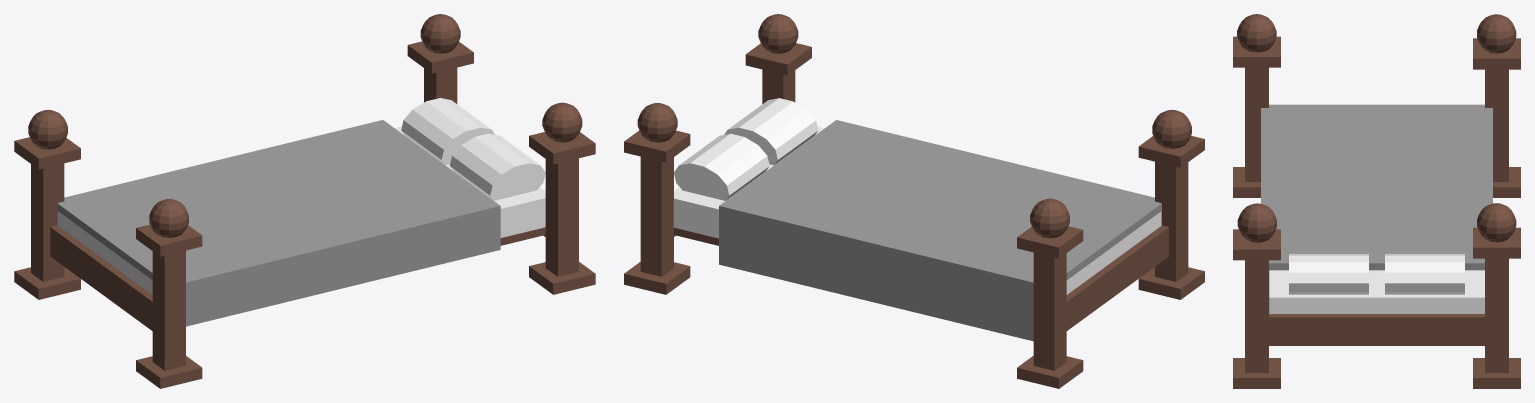
Rendered from four-post-bed-by-andrew-john-hickman-bag5JGLPUsN.glb.
3 renders of one model, left to right at view 1: azimuth 30°, elevation 25°; view 2: azimuth 150°, elevation 25°; view 3: azimuth 270°, elevation 25°, orthographic.
Visible parts, largest first — view 1: group1960793774, group1645054743, group147748952, group70585974, group79337564, group150157197, group713698005, group1806039222, group347667127, group565552820, group758873995, group1595944513 (+6 smaller); view 2: group1960793774, group565552820, group147748952, group713698005, group347667127, group150157197, group70585974, group1806039222, group79337564, group1645054743, group758873995, group1595944513 (+6 smaller); view 3: group1960793774, group147748952, group1806039222, group713698005, group70585974, group79337564, group347667127, group463399335, group712725752, group1549975726, group1181000121, group758873995 (+5 smaller).
Boxes of the visible parts, x1,y1,x2,y2 form: group1960793774: (57,123,496,279); group1645054743: (186,203,500,326); group147748952: (407,41,595,294); group70585974: (450,133,545,200); group79337564: (152,250,185,370); group150157197: (50,225,152,330); group713698005: (401,98,494,165); group1806039222: (57,126,545,294); group347667127: (31,163,64,281); group565552820: (64,120,386,201); group758873995: (14,137,80,169); group1595944513: (14,267,80,299); group1960793774: (723,123,1161,279); group565552820: (719,203,1033,341); group147748952: (624,43,811,294); group713698005: (674,133,769,200); group347667127: (1033,252,1066,370); group150157197: (1066,225,1168,330); group70585974: (724,98,818,165); group1806039222: (673,127,1161,294); group79337564: (1155,161,1188,281); group1645054743: (832,120,1154,201); group758873995: (1017,226,1083,258); group1595944513: (1017,356,1083,388); group1960793774: (1269,104,1484,270); group147748952: (1233,227,1520,388); group1806039222: (1269,270,1484,313); group713698005: (1385,254,1464,294); group70585974: (1289,254,1368,294); group79337564: (1245,67,1268,181); group347667127: (1485,69,1508,181); group463399335: (1237,203,1276,242); group712725752: (1477,14,1516,53); group1549975726: (1477,203,1516,242); group1181000121: (1237,14,1276,52); group758873995: (1473,38,1520,69).
Bounding box in the file's own units: 0.62 × 0.24 × 0.36.
